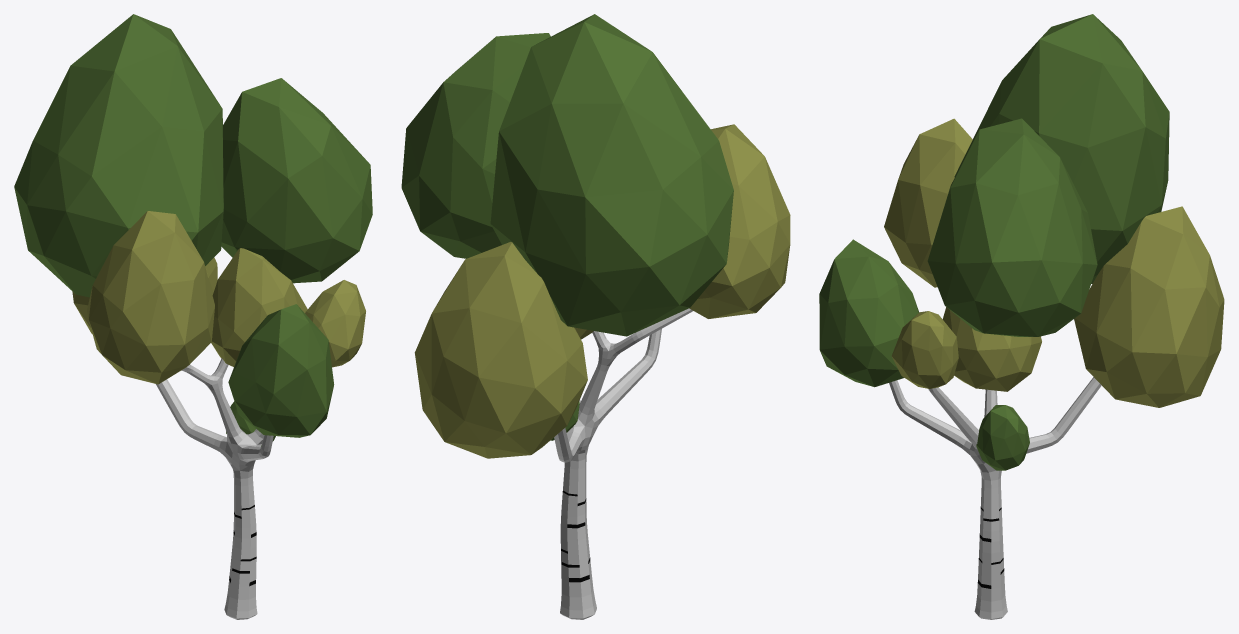
The model's file is tree6.fbx.
The picture shows the model from 3 angles, left to right: view 1: azimuth 30°, elevation 25°; view 2: azimuth 150°, elevation 25°; view 3: azimuth 270°, elevation 25°; orthographic projection. The views are drawn at different scales.
Visible parts, largest first — view 1: Icosphere.008; view 2: Icosphere.008; view 3: Icosphere.008.
Part boxes in pixels (x1,y1,x2,y2): Icosphere.008: [14, 14, 372, 619]; Icosphere.008: [401, 14, 790, 619]; Icosphere.008: [819, 14, 1224, 619].
Size of the model in its own units: 768 by 1413 by 904.
